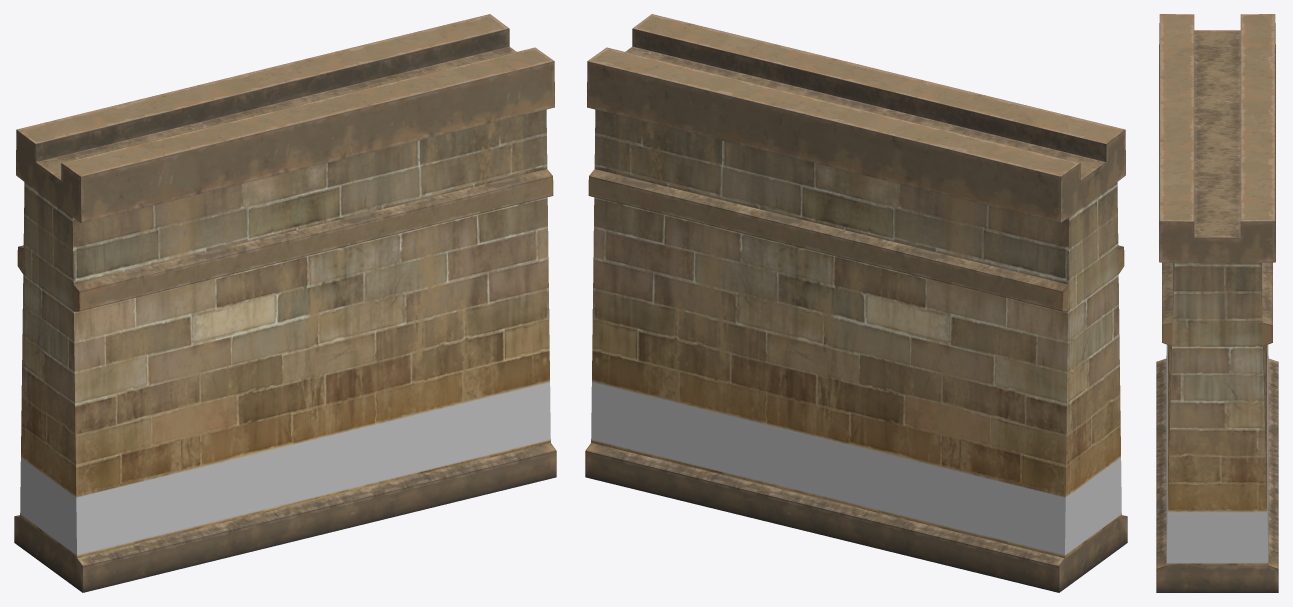
Rendered from 69-stonewall-wall_stone_c_short.glb.
The picture shows the model from 3 angles, left to right: view 1: azimuth 30°, elevation 25°; view 2: azimuth 150°, elevation 25°; view 3: azimuth 270°, elevation 25°; orthographic projection. The views are drawn at different scales.
Size of the model in its own units: 4.8 by 4.02 by 1.2.
1 material, 1 textured.
